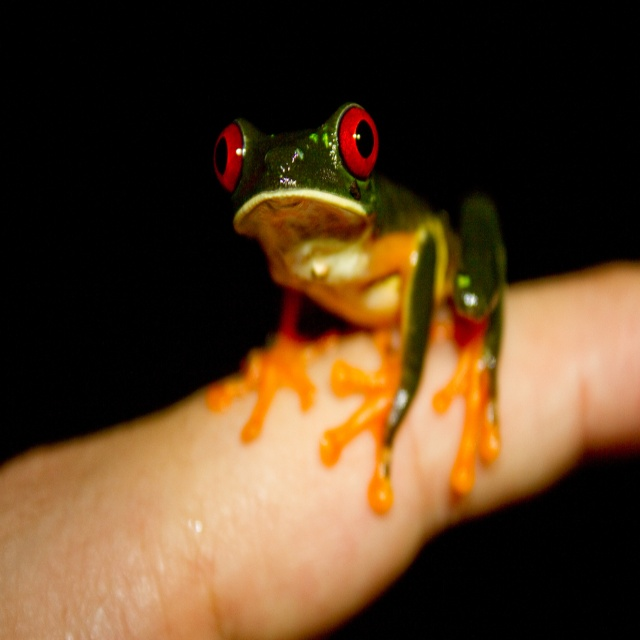Frog: (204, 98, 507, 518)
